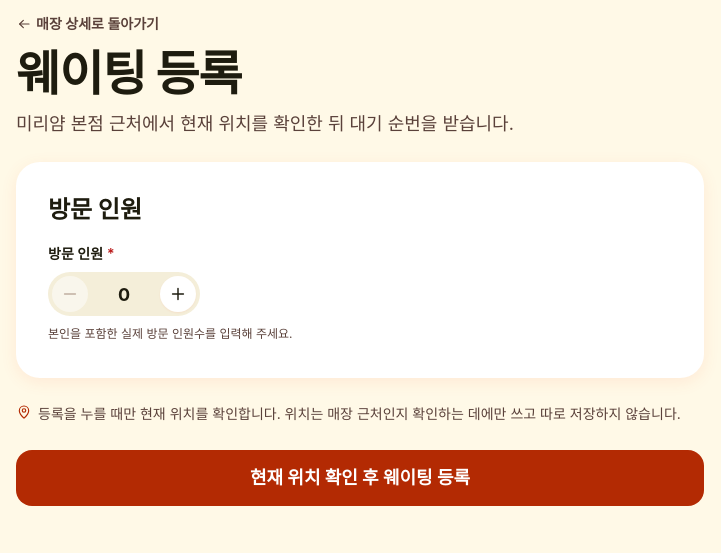
웨이팅 등록 화면 - 인원수 › 인원이 0명이면 등록하지 않고 오류를 보여 준다
Click the button "현재 위치 확인 후 웨이팅 등록" at x=360, y=478, box [16,450,704,506]
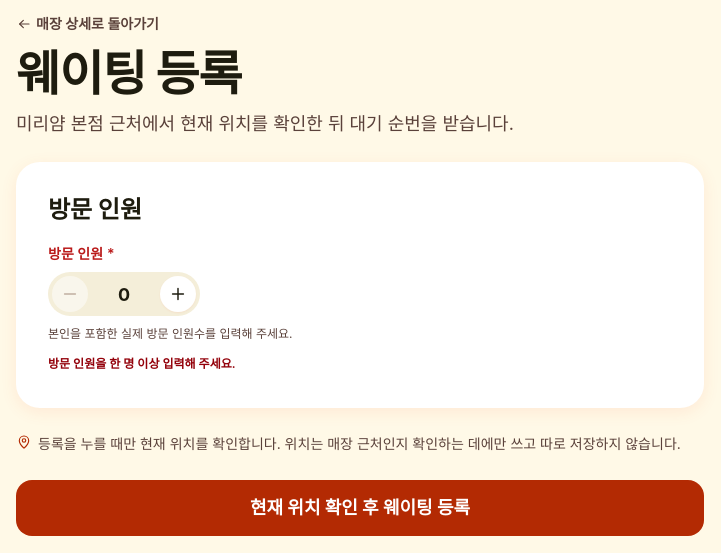
Expected: the text "방문 인원을 한 명 이상 입력해 주세요." is shown, [48,356,236,371]
